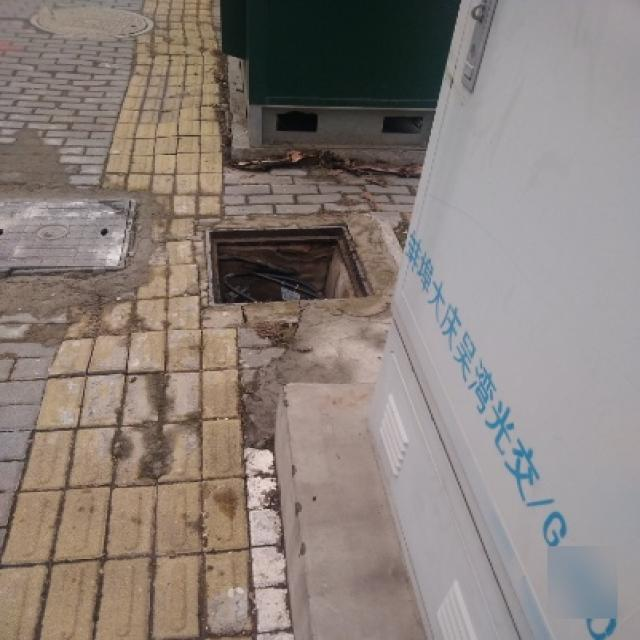Faulty: (180, 211, 386, 325)
